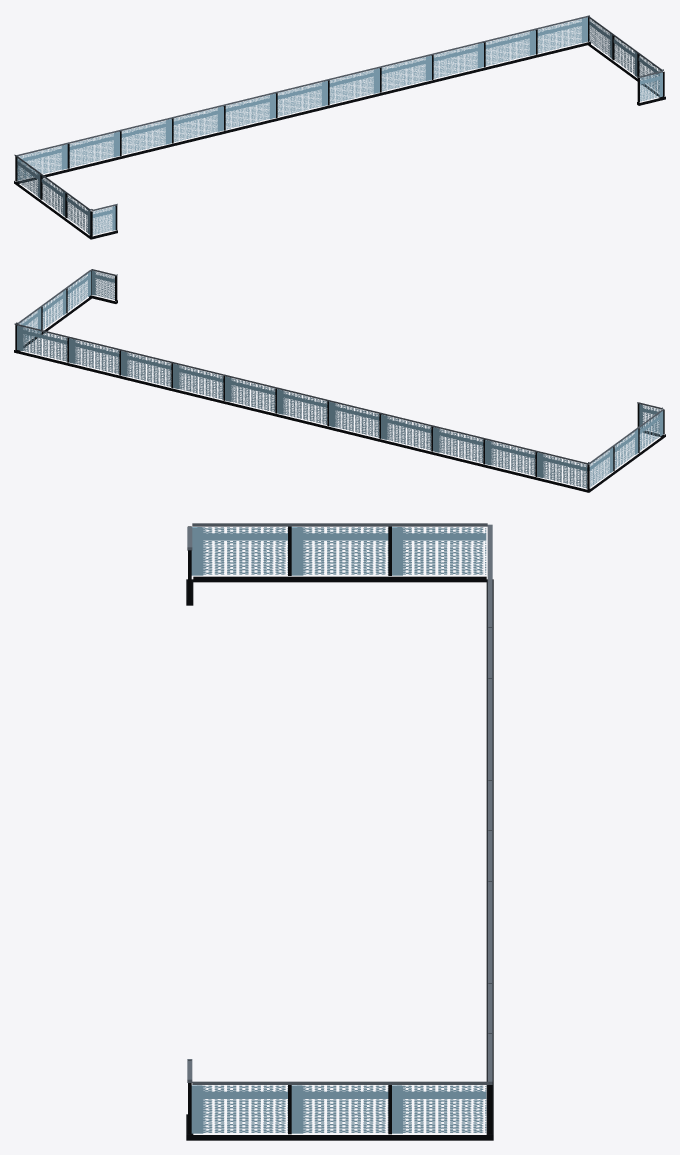
The model's file is tt_struct_void_guard.glb.
3 renders of one model, top to bottom at view 1: azimuth 30°, elevation 25°; view 2: azimuth 150°, elevation 25°; view 3: azimuth 270°, elevation 25°, orthographic. The views are drawn at different scales.
Parts seen in each view (by area): view 1: Guard_Pane_Scissor, Guard_Kerb, Guard_Rail, Guard_Posts; view 2: Guard_Pane_Scissor, Guard_Kerb, Guard_Rail, Guard_Posts; view 3: Guard_Pane_Scissor, Guard_Kerb, Guard_Rail, Guard_Posts.
Boxes of the visible parts, <box> form: Guard_Pane_Scissor: <box>17,17,662,234</box>; Guard_Kerb: <box>14,41,665,239</box>; Guard_Rail: <box>14,15,663,211</box>; Guard_Posts: <box>15,17,664,236</box>; Guard_Pane_Scissor: <box>17,270,663,488</box>; Guard_Kerb: <box>14,295,665,492</box>; Guard_Rail: <box>14,269,663,464</box>; Guard_Posts: <box>15,271,664,489</box>; Guard_Pane_Scissor: <box>191,527,486,1133</box>; Guard_Kerb: <box>186,576,493,1140</box>; Guard_Rail: <box>187,523,492,1084</box>; Guard_Posts: <box>188,526,491,1134</box>.
Size of what is drawn, in the model's own units: 22.12 by 1.07 by 5.12.
4 materials, 4 textured.
